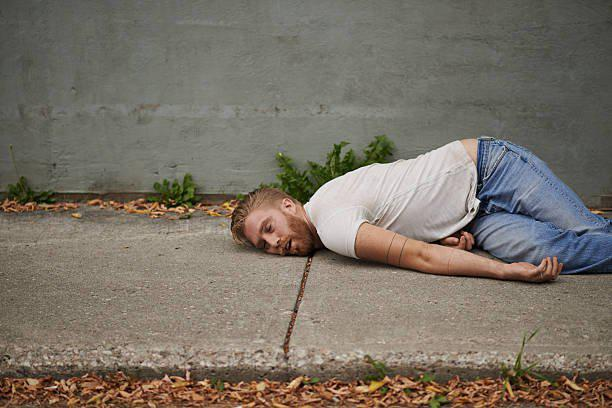Drunk: (237, 208, 306, 255)
